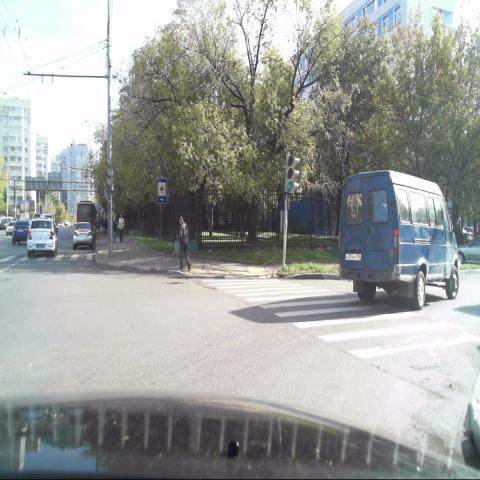7_1: (157, 177, 166, 204)
